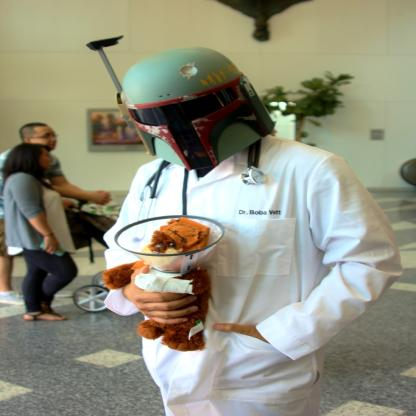Helmet: (108, 46, 275, 174)
